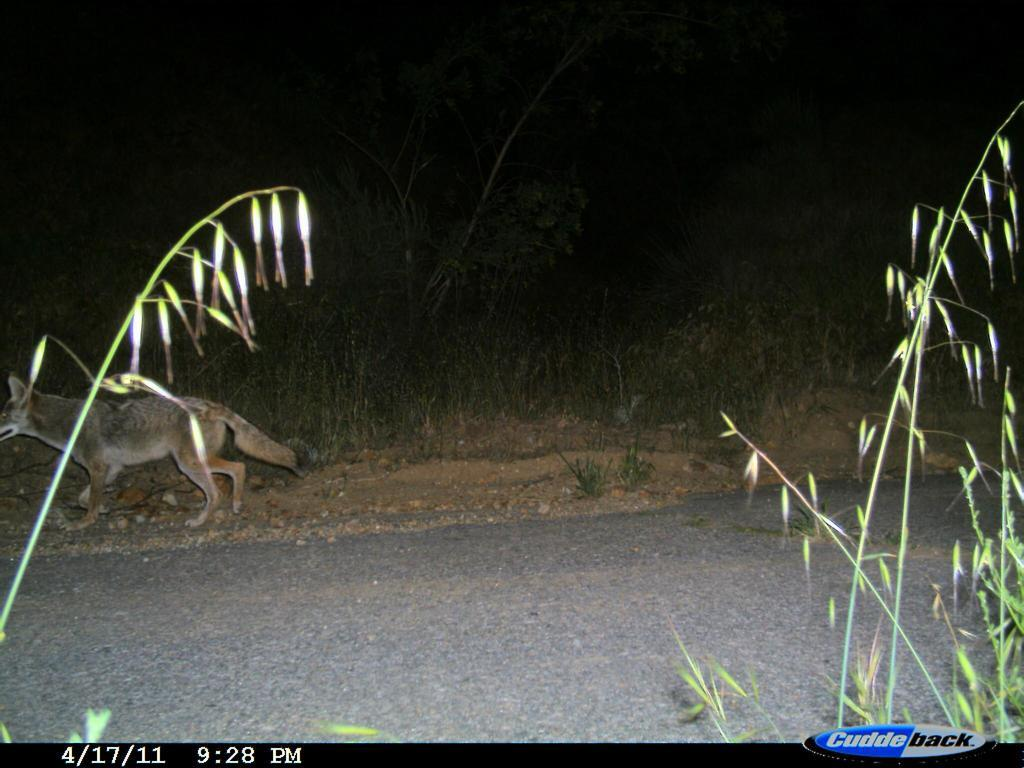coyote: (2, 372, 303, 538)
